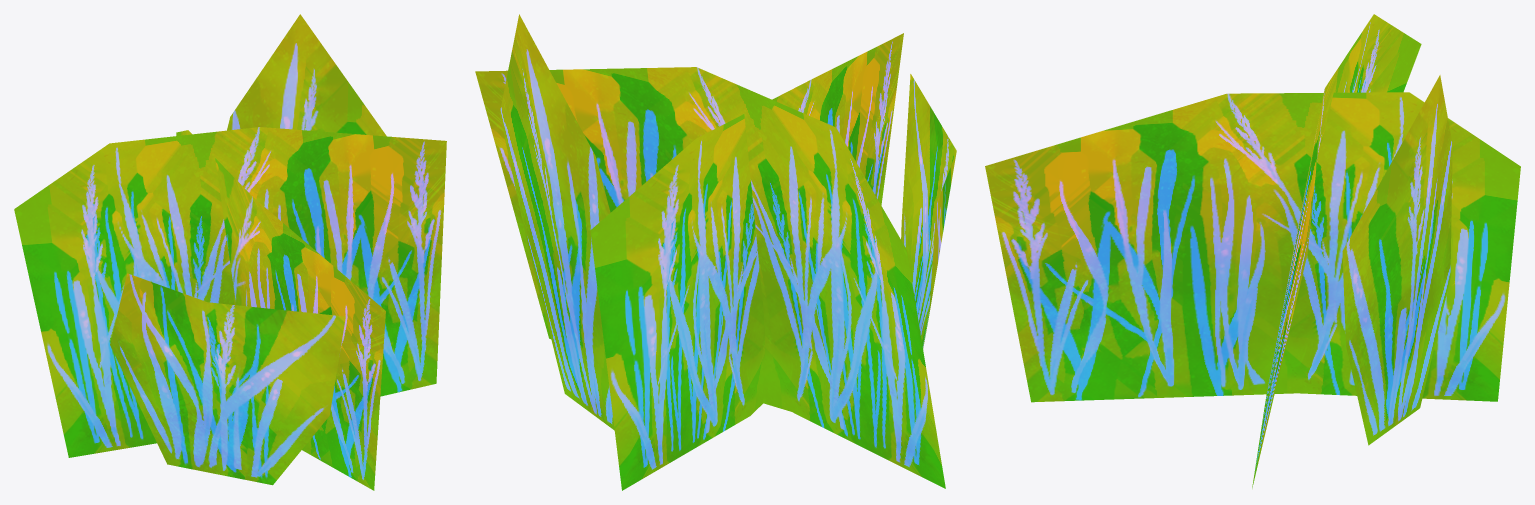
File: SM_Alpha_grass_short.fbx
3 views of the same model, side by side, from view 1: azimuth 30°, elevation 25°; view 2: azimuth 150°, elevation 25°; view 3: azimuth 270°, elevation 25° (orthographic). The views are drawn at different scales.
Parts seen in each view (by area): view 1: SM_Alpha_grass_short_LOD0; view 2: SM_Alpha_grass_short_LOD0; view 3: SM_Alpha_grass_short_LOD0.
Part boxes in pixels (<box>): SM_Alpha_grass_short_LOD0: <box>14,14,446,490</box>; SM_Alpha_grass_short_LOD0: <box>475,14,956,490</box>; SM_Alpha_grass_short_LOD0: <box>985,14,1520,488</box>.
Size of the model in its own units: 27.75 by 28.37 by 23.33.
